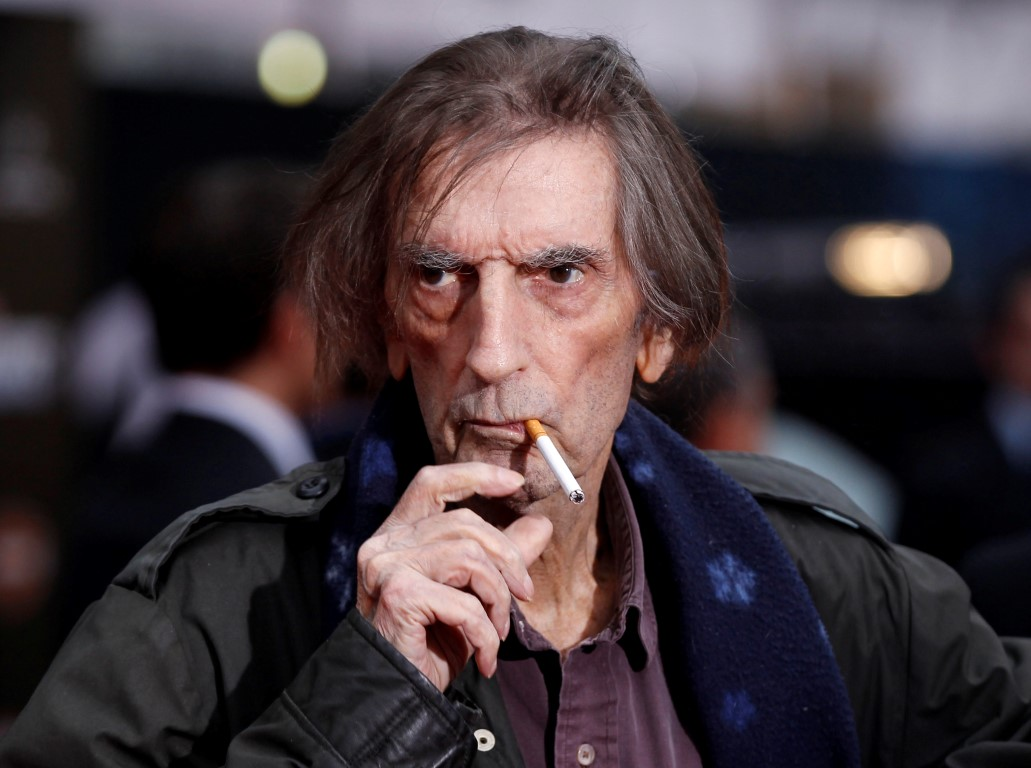cigarette: (509, 404, 606, 517)
